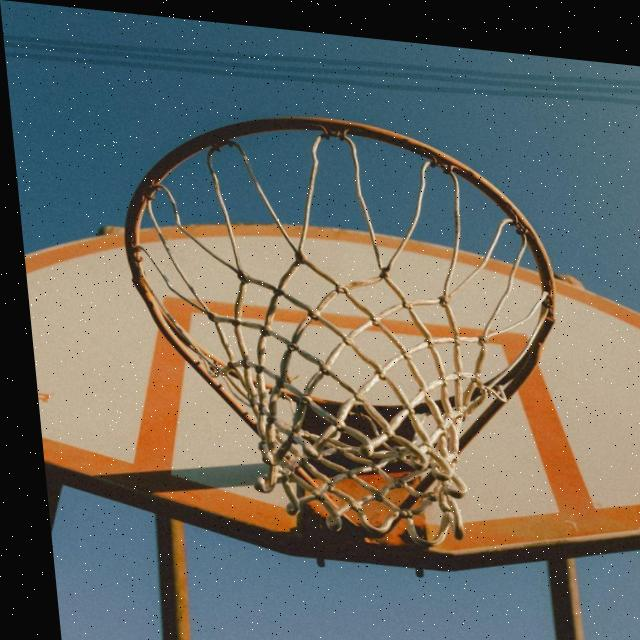hoop: (61, 88, 637, 610)
